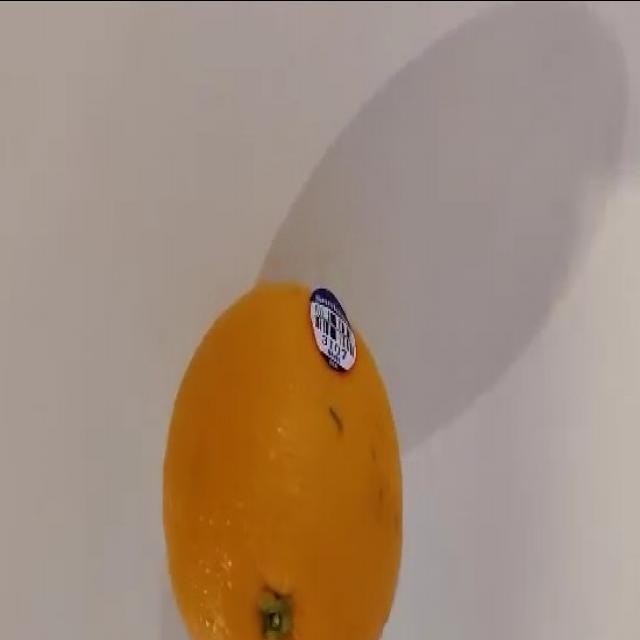Orange: (157, 282, 401, 640)
